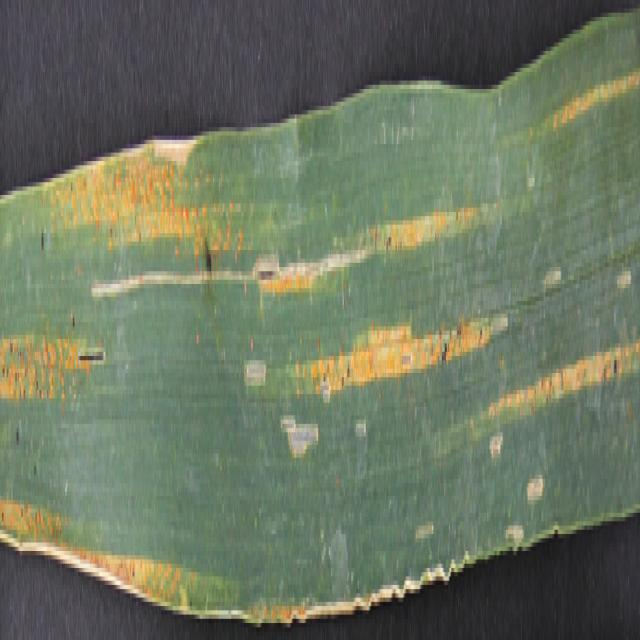leaf rust: (264, 186, 504, 402), (1, 420, 195, 627), (52, 136, 246, 288), (1, 288, 109, 454), (510, 314, 640, 445), (545, 13, 640, 178)
